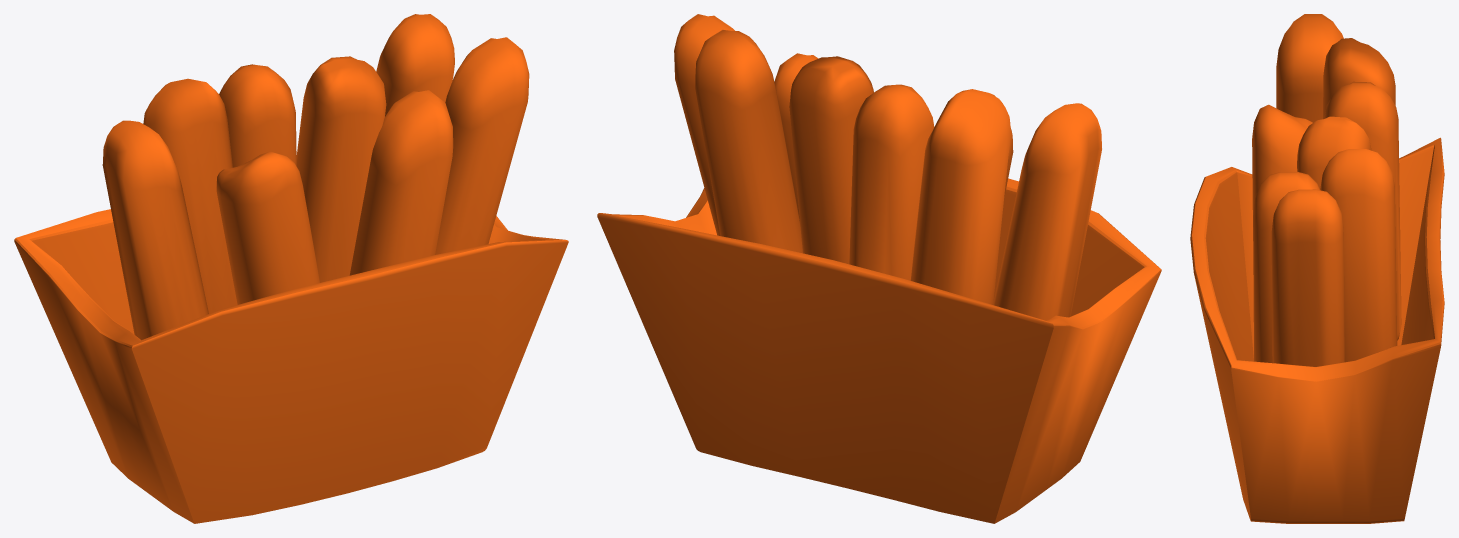
File: Patato2.FBX
The picture shows the model from 3 angles, left to right: view 1: azimuth 30°, elevation 25°; view 2: azimuth 150°, elevation 25°; view 3: azimuth 270°, elevation 25°; orthographic projection. The views are drawn at different scales.
Visible parts, largest first — view 1: Patato2; view 2: Patato2; view 3: Patato2.
Part boxes in pixels (x1,y1,x2,y2): Patato2: [14, 14, 568, 523]; Patato2: [597, 14, 1161, 523]; Patato2: [1190, 14, 1444, 523].
Bounding box in the file's own units: 292 × 248 × 153.
